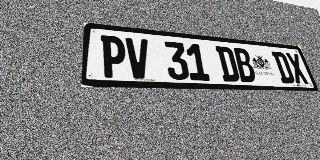1: (184, 43, 210, 81)
3: (164, 41, 190, 80)
B: (232, 47, 258, 82)
D: (215, 46, 241, 82), (271, 51, 296, 84)
P: (101, 35, 126, 78)
V: (125, 37, 151, 79)
X: (285, 52, 309, 84)
